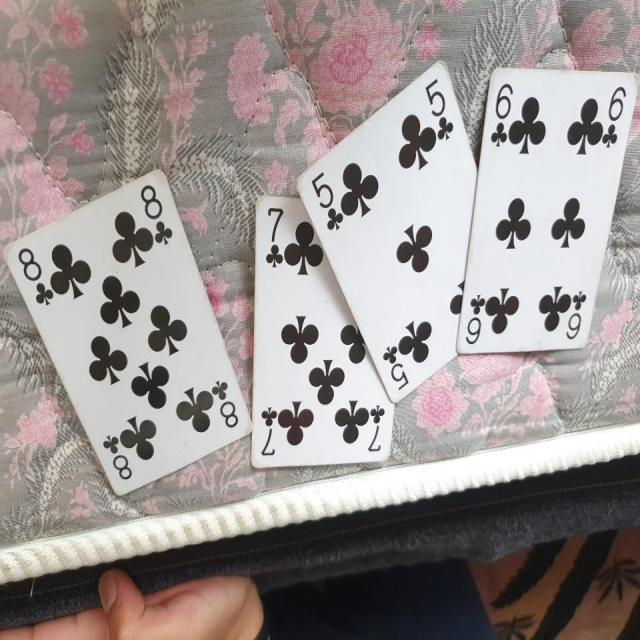5 Trefoils: (296, 53, 480, 402)
6 Trefoils: (457, 63, 640, 360)
7 Trefoils: (248, 194, 396, 469)
8 Trefoils: (2, 167, 252, 500)
